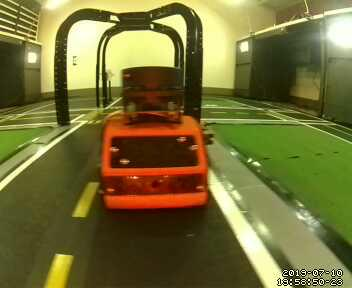pheeno: (92, 64, 216, 215)
